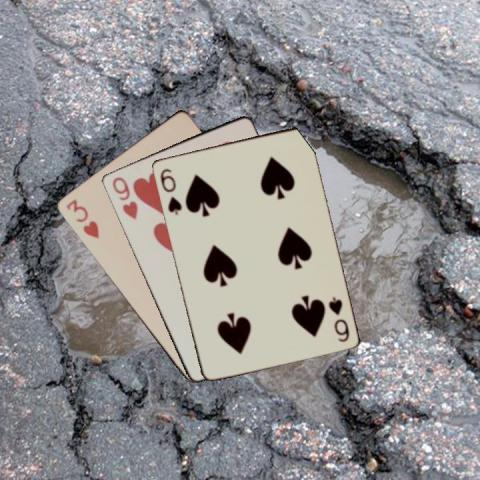3h: (63, 196, 100, 240)
6s: (157, 165, 183, 216), (324, 294, 350, 344)
9h: (109, 174, 139, 222)
